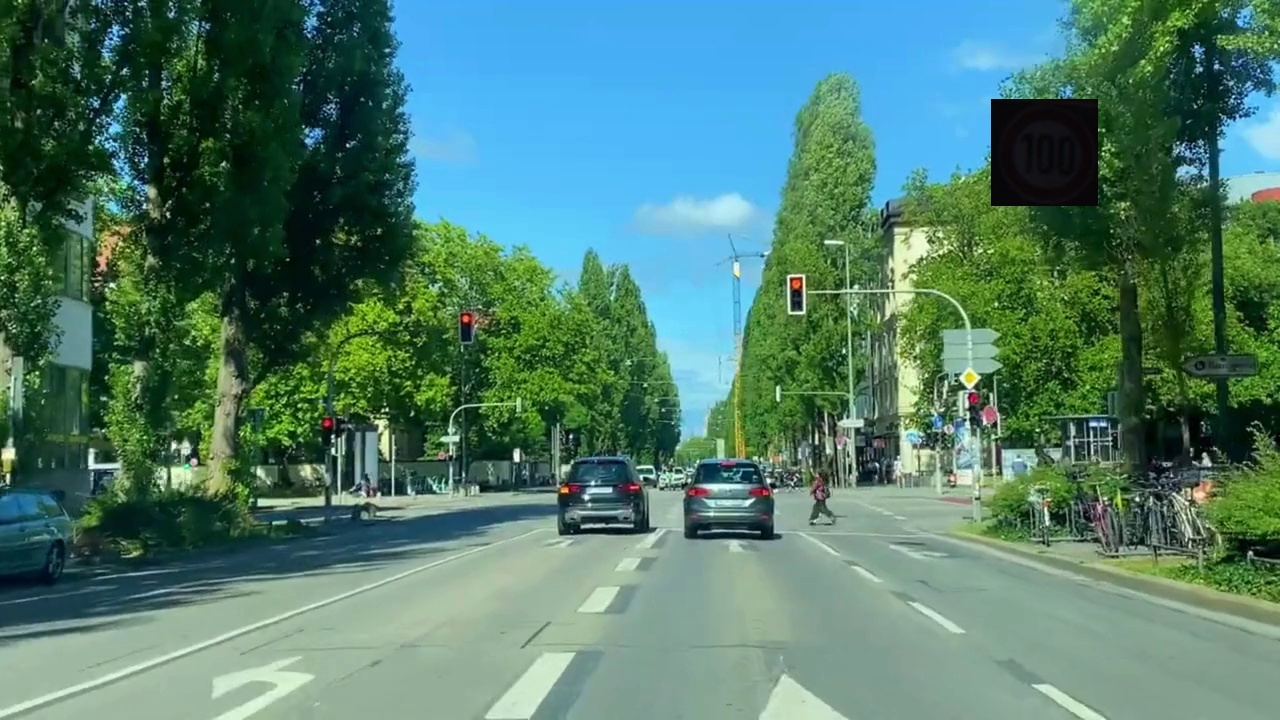Speed 100: (991, 99, 1098, 206)
